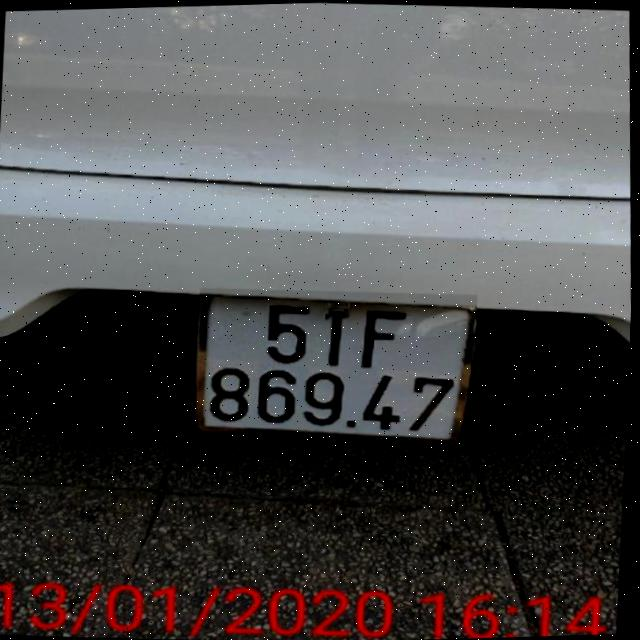plate: (188, 276, 485, 460)
